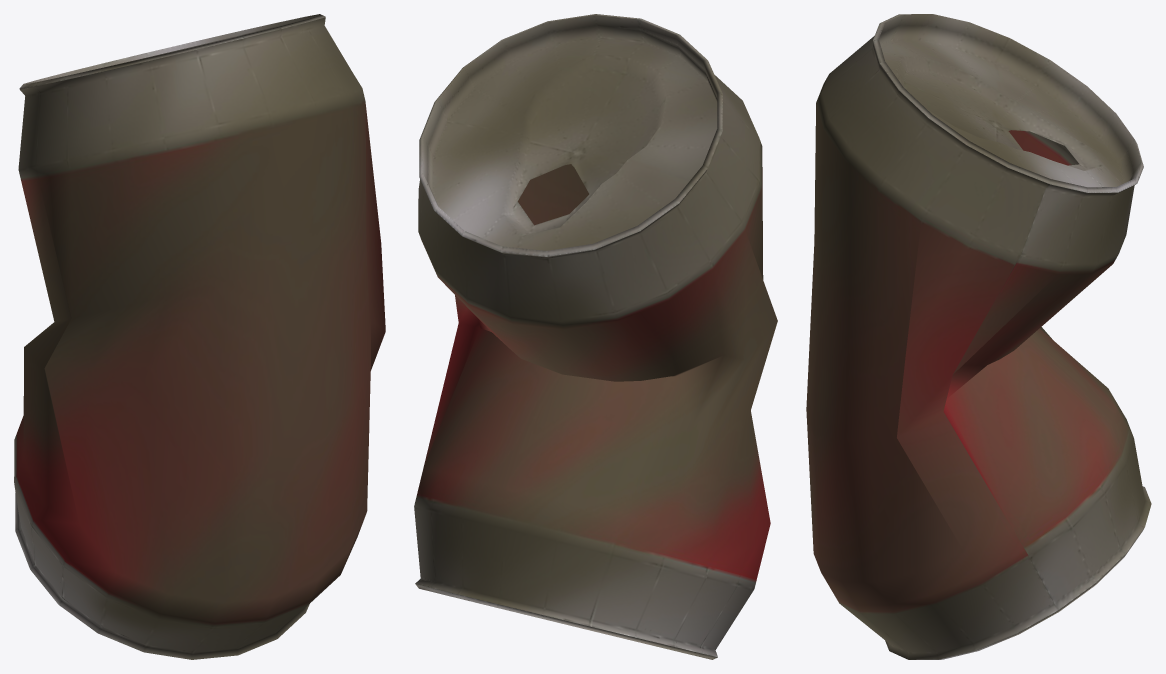
Rendered from kan.fbx.
3 renders of one model, left to right at view 1: azimuth 30°, elevation 25°; view 2: azimuth 150°, elevation 25°; view 3: azimuth 270°, elevation 25°, orthographic. The views are drawn at different scales.
Parts seen in each view (by area): view 1: pCylinder1; view 2: pCylinder1; view 3: pCylinder1.
Boxes of the visible parts, x1,y1,x2,y2 form: pCylinder1: [14, 14, 385, 659]; pCylinder1: [414, 14, 777, 659]; pCylinder1: [806, 14, 1151, 659].
Bounding box in the file's own units: 5.93 × 11.39 × 5.98.
1 material, 1 textured.
